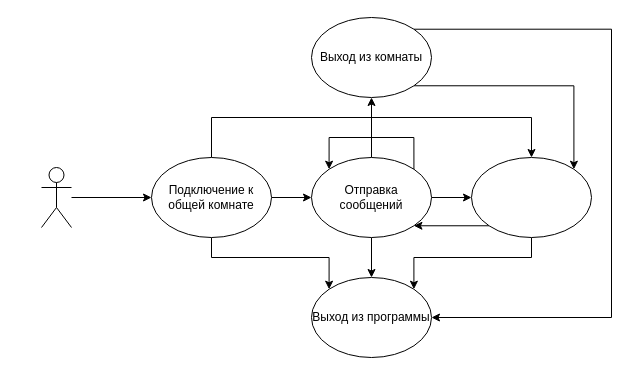
This 637x375 diagram has some shape labels left out. Here are the shapes that lost their labels. From the top down, the box of each, then its label:
(40, 166, 72, 228): Пользователь
(470, 156, 592, 238): Смена комнаты
